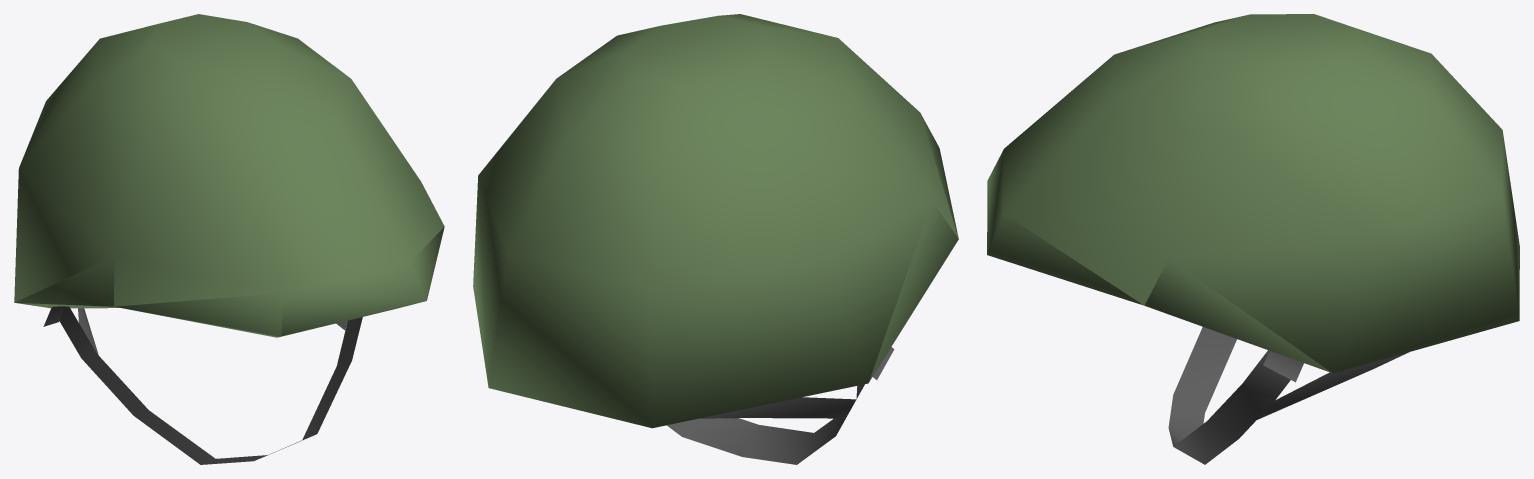
The model's file is kaska.glb.
3 views of the same model, side by side, from view 1: azimuth 30°, elevation 25°; view 2: azimuth 150°, elevation 25°; view 3: azimuth 270°, elevation 25° (orthographic). The views are drawn at different scales.
Visible parts, largest first — view 1: hat, strap; view 2: hat, strap; view 3: hat, strap.
Part boxes in pixels (x1,y1,x2,y2): hat: [14, 14, 444, 337]; strap: [43, 306, 362, 464]; hat: [473, 14, 958, 428]; strap: [667, 347, 894, 464]; hat: [987, 14, 1519, 373]; strap: [1168, 327, 1409, 464].
Bounding box in the file's own units: 0.2391 × 0.253 × 0.3.
